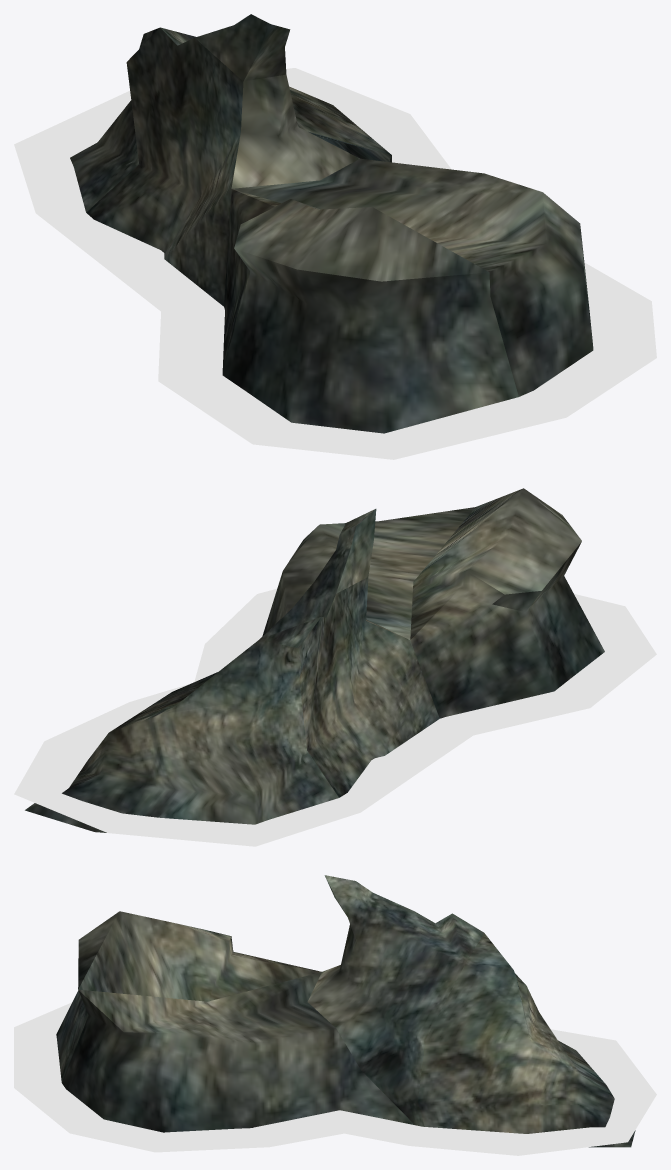
Rendered from pir_m_prp_ocn_rock_f.fbx.
3 views of the same model, one above another, from view 1: azimuth 30°, elevation 25°; view 2: azimuth 150°, elevation 25°; view 3: azimuth 270°, elevation 25° (orthographic). The views are drawn at different scales.
Visible parts, largest first — view 1: rock, wave; view 2: rock, wave; view 3: rock, wave.
Boxes of the visible parts, x1,y1,x2,y2 form: rock: [70, 14, 593, 433]; wave: [14, 68, 656, 459]; rock: [25, 488, 604, 832]; wave: [14, 589, 656, 846]; rock: [56, 875, 635, 1147]; wave: [14, 1002, 656, 1155].
Size of the model in its own units: 3322 by 1856 by 5549.
Materials: 2 (2 with a texture image).
